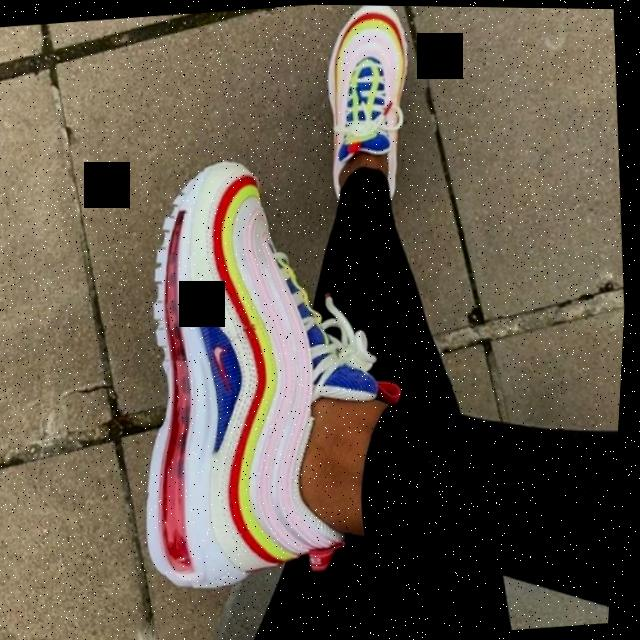shoes: (120, 158, 348, 587), (316, 4, 418, 154)
